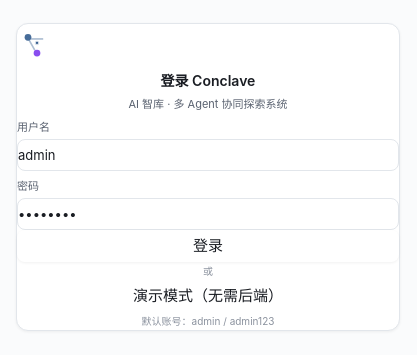
Test case: LoginPage 表单校验 › 服务端拒绝（401）→ 表单级横幅展示错误，而非字段级
Click the button "登录" at point(208, 246), box [17,230,399,262]
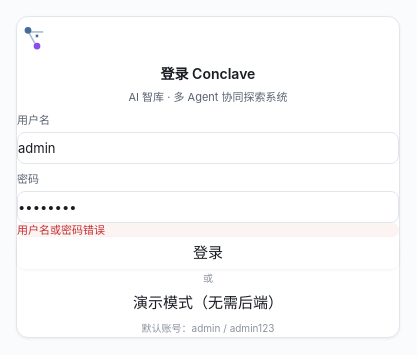
Check: the message reads "用户名或密码错误", box [17,222,105,236]
